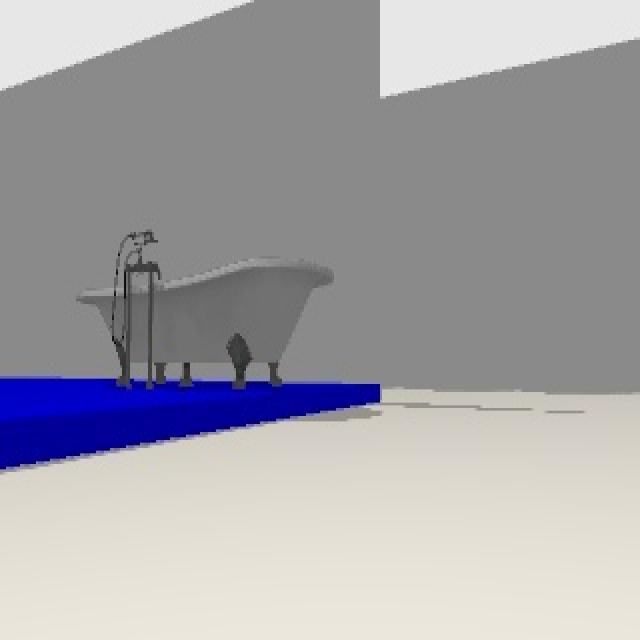bathtub: (75, 225, 333, 387)
